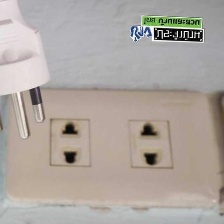three_eye_plug: (2, 84, 224, 212)
